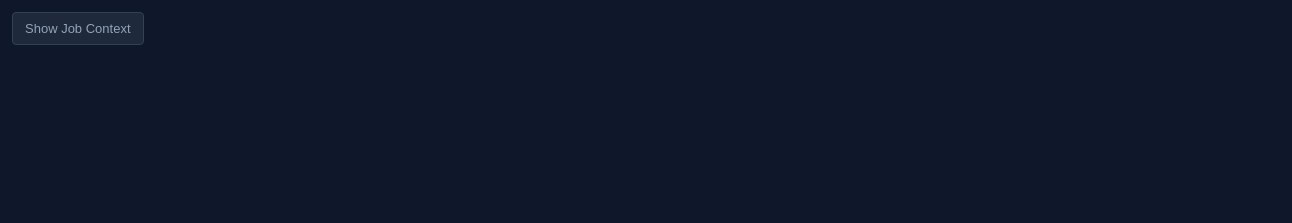
Test: JobContextPanel › displays resume and cover letter when data loads
# Click to show panel
Click the button "Show Job Context" at [78, 28], box [12, 12, 144, 45]
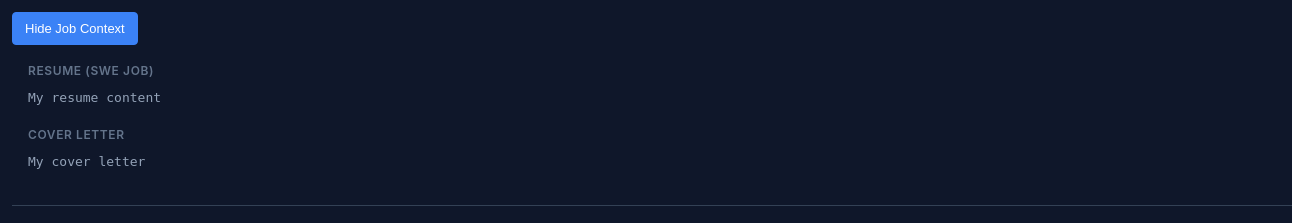
Check: the heading "Resume (SWE Job)" is shown, box [28, 63, 154, 78]
Check: the text "My resume content" is shown, box [28, 90, 161, 105]
Check: the text "My cover letter" is shown, box [28, 154, 145, 169]
